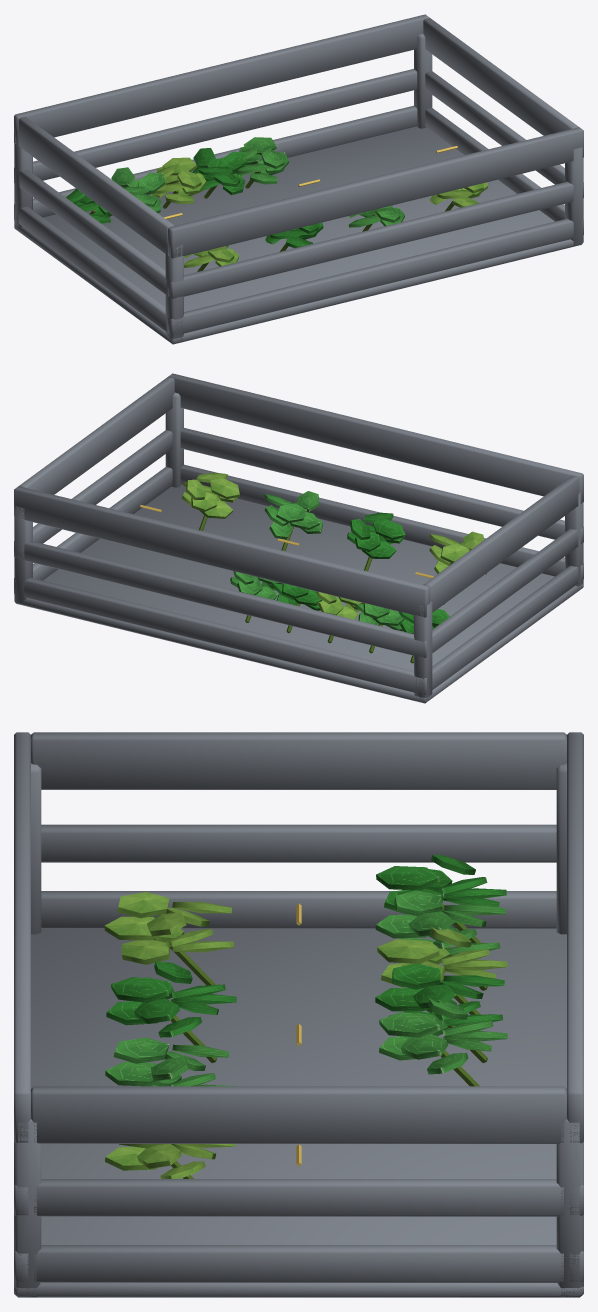
Rendered from harvest_crate_herbs.glb.
3 views of the same model, one above another, from view 1: azimuth 30°, elevation 25°; view 2: azimuth 150°, elevation 25°; view 3: azimuth 270°, elevation 25° (orthographic). The views are drawn at different scales.
Parts seen in each view (by area): view 1: harvest_crate_herbs; view 2: harvest_crate_herbs; view 3: harvest_crate_herbs.
Boxes of the visible parts, x1,y1,x2,y2 form: harvest_crate_herbs: (14, 14, 583, 344); harvest_crate_herbs: (14, 373, 583, 703); harvest_crate_herbs: (14, 732, 583, 1297).
Size of the model in its own units: 0.6 by 0.1605 by 0.4.
Materials: 6 (3 with a texture image).
